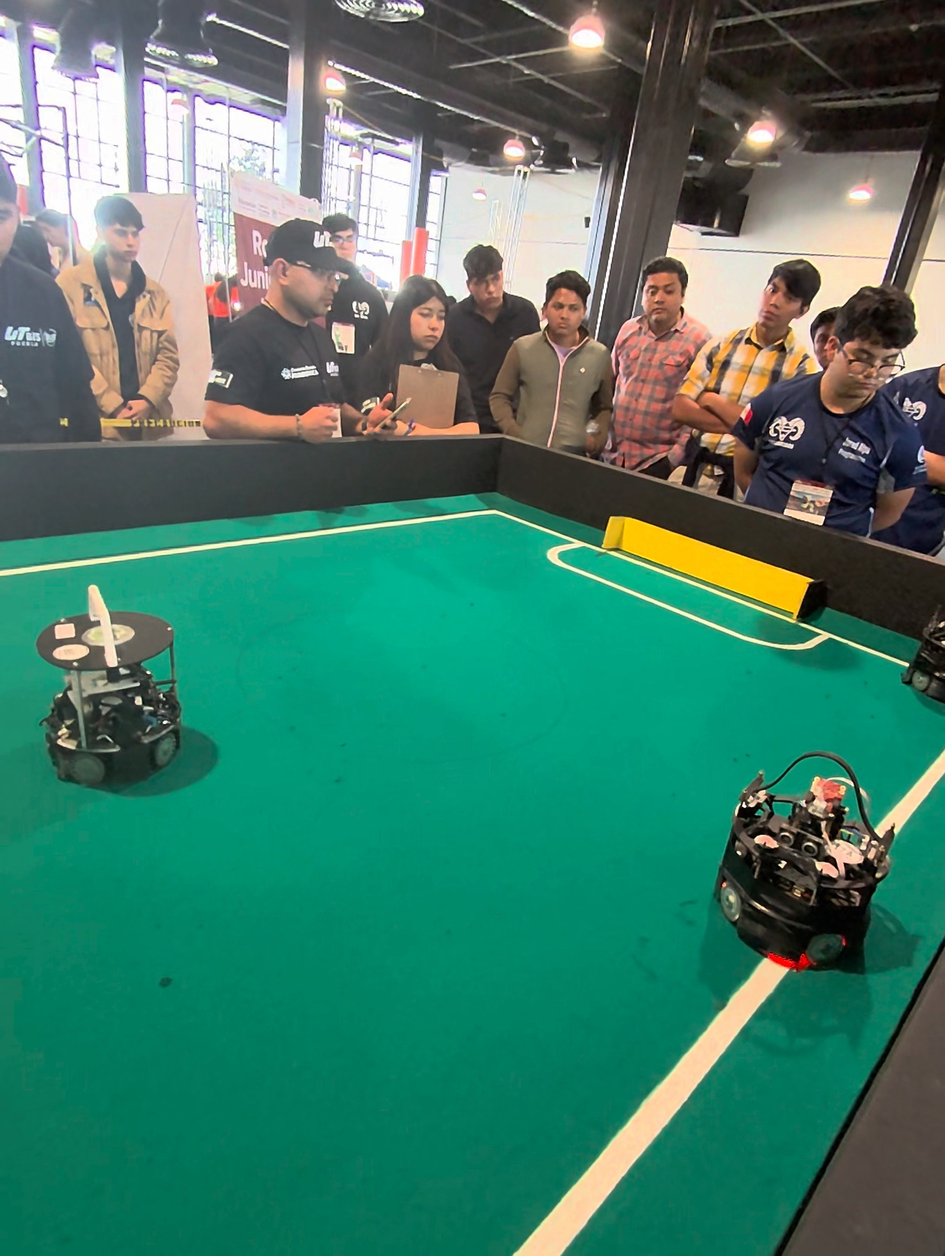Robot: (721, 735, 909, 985), (33, 586, 189, 806), (904, 595, 945, 711)
